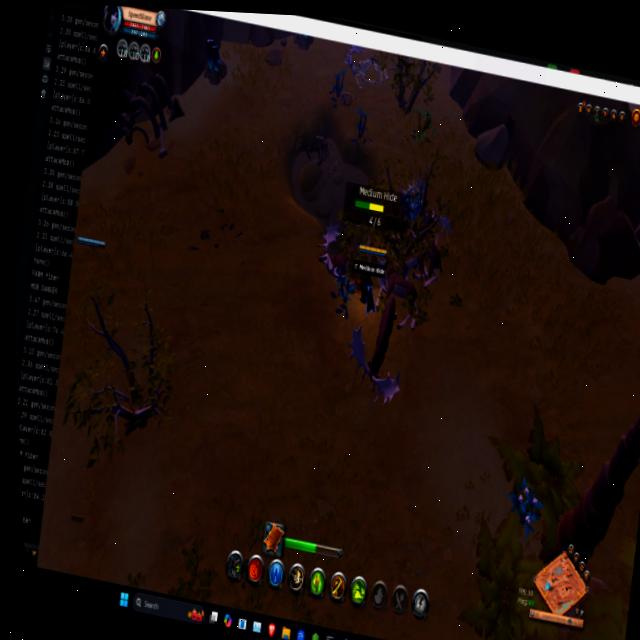hide: (505, 475, 548, 538), (397, 180, 427, 227), (201, 37, 230, 80)
mob: (371, 254, 431, 333), (408, 206, 455, 297), (313, 233, 361, 290)
ore: (340, 288, 415, 405)
red: (348, 241, 391, 319), (75, 233, 107, 251)
